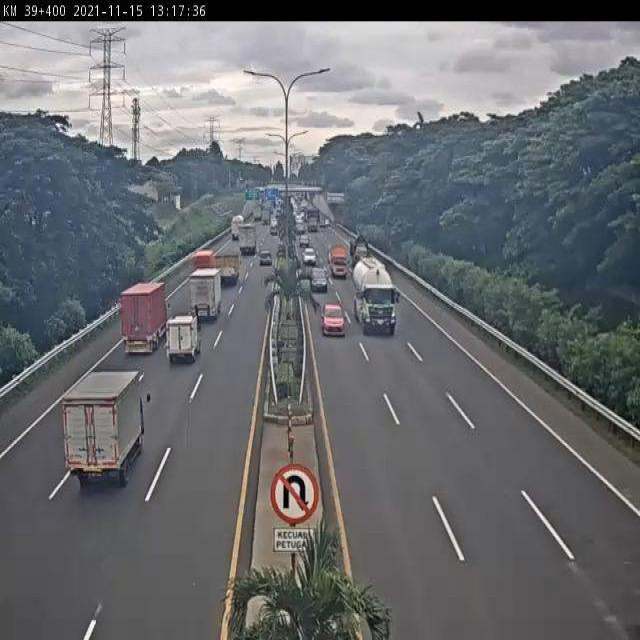car: (321, 303, 345, 336), (309, 266, 328, 294)
truck-l-: (354, 255, 400, 336)
truck-m-: (63, 368, 150, 484), (120, 280, 171, 353), (190, 268, 223, 320), (216, 248, 239, 285)
truck-s-: (168, 313, 202, 360)
